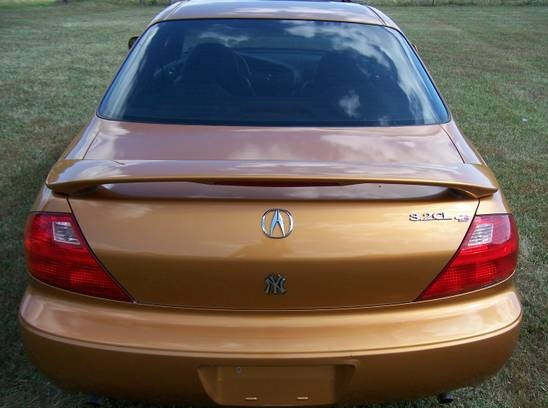acura: (1, 2, 526, 404)
